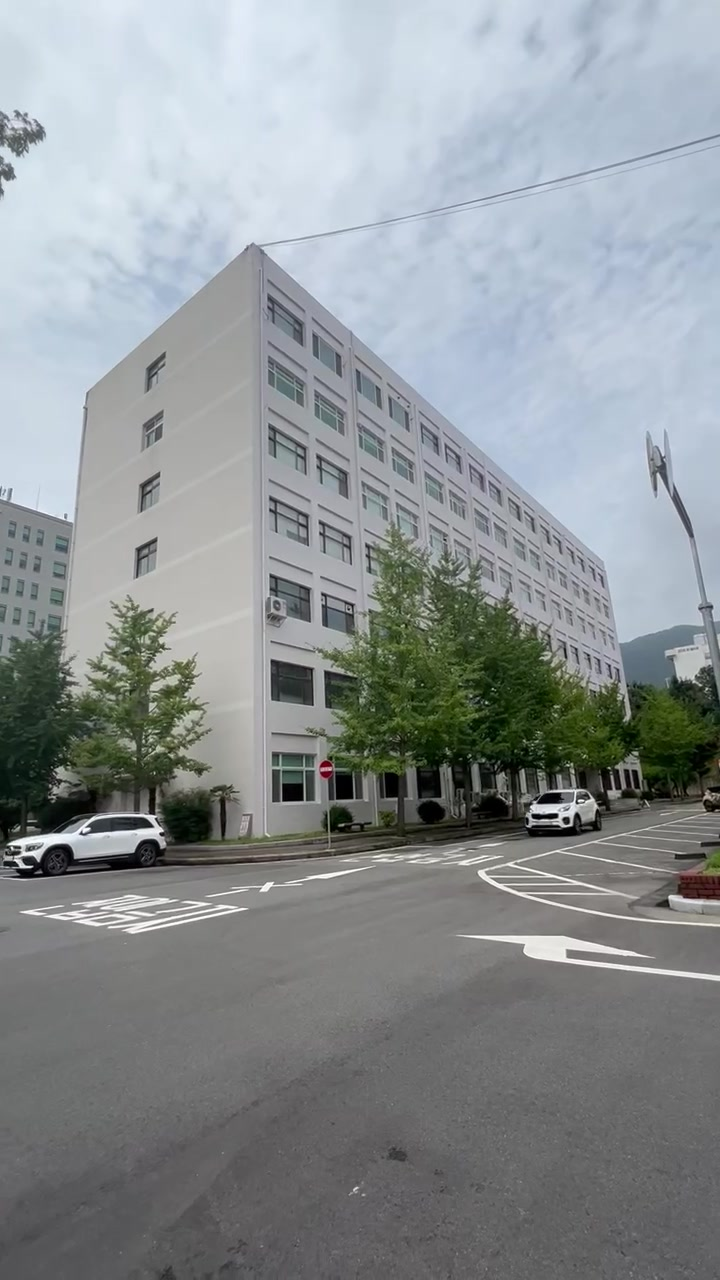low: (80, 270, 388, 618)
